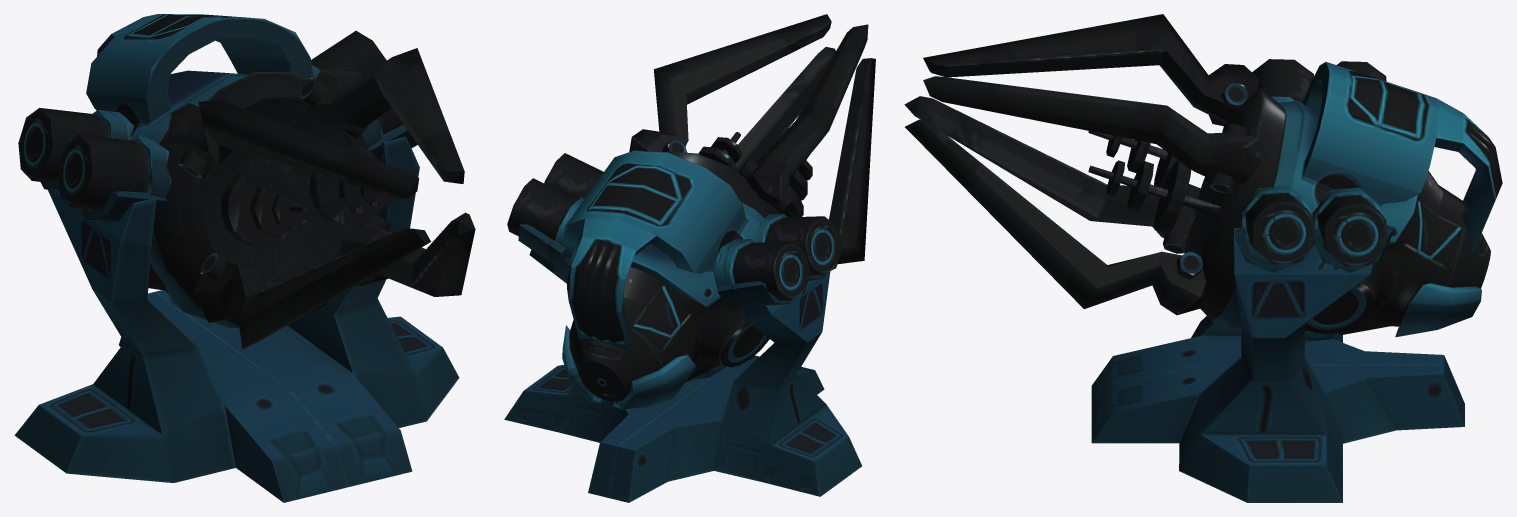
Rendered from Cannon_07.FBX.
The picture shows the model from 3 angles, left to right: view 1: azimuth 30°, elevation 25°; view 2: azimuth 150°, elevation 25°; view 3: azimuth 270°, elevation 25°; orthographic projection. The views are drawn at different scales.
Parts seen in each view (by area): view 1: Turret, Base; view 2: Turret, Base; view 3: Turret, Base.
Boxes of the visible parts, x1,y1,x2,y2 form: Turret: (18,14,475,349); Base: (14,124,459,502); Turret: (507,14,875,409); Base: (504,223,861,502); Turret: (904,14,1502,341); Base: (1091,224,1464,502).
Bounding box in the file's own units: 128 × 120 × 184.
Materials: 1 (1 with a texture image).
